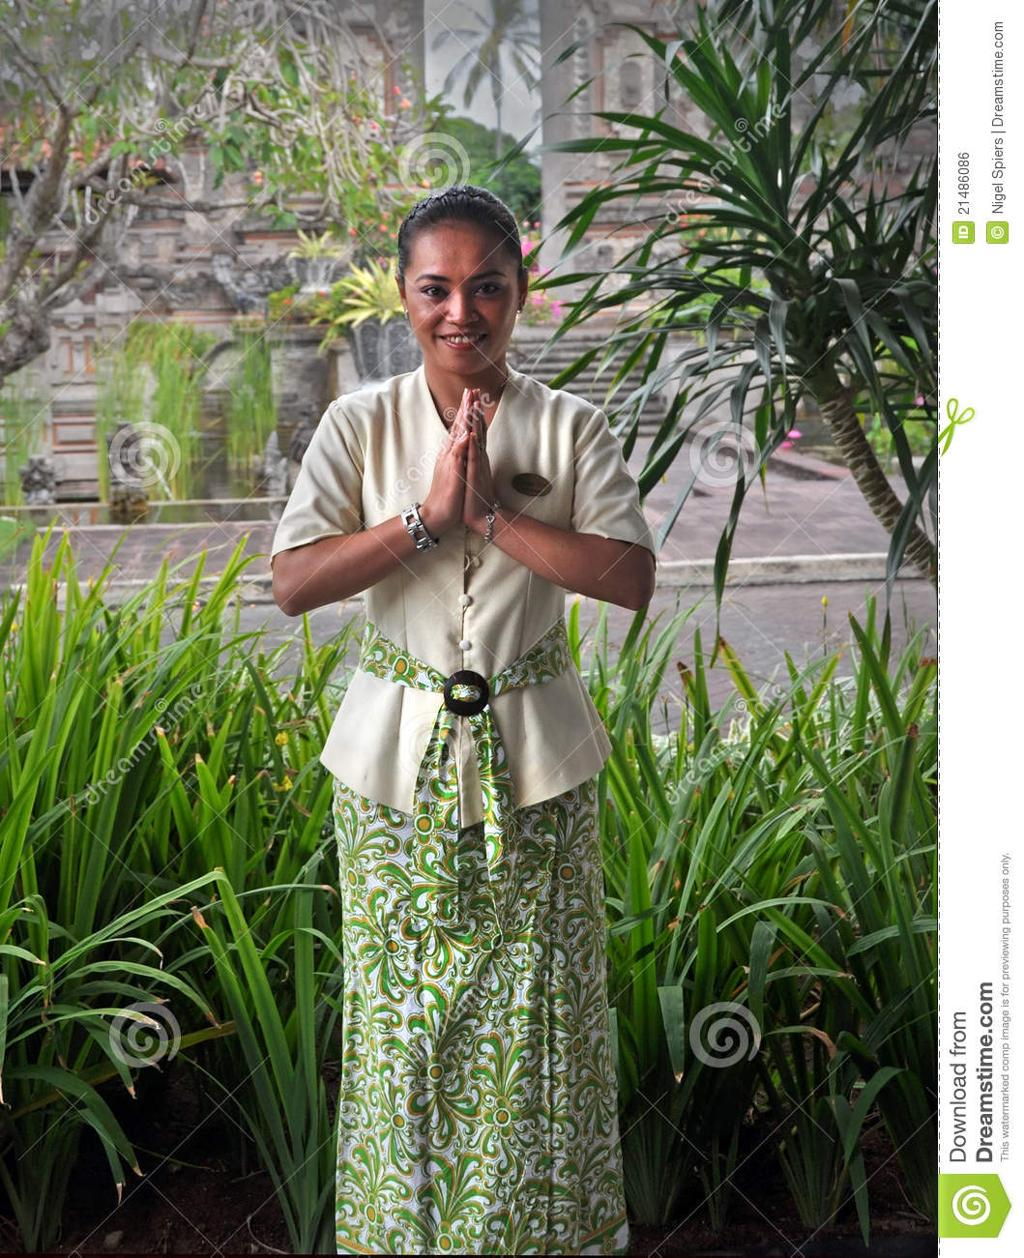face: (408, 221, 523, 373)
